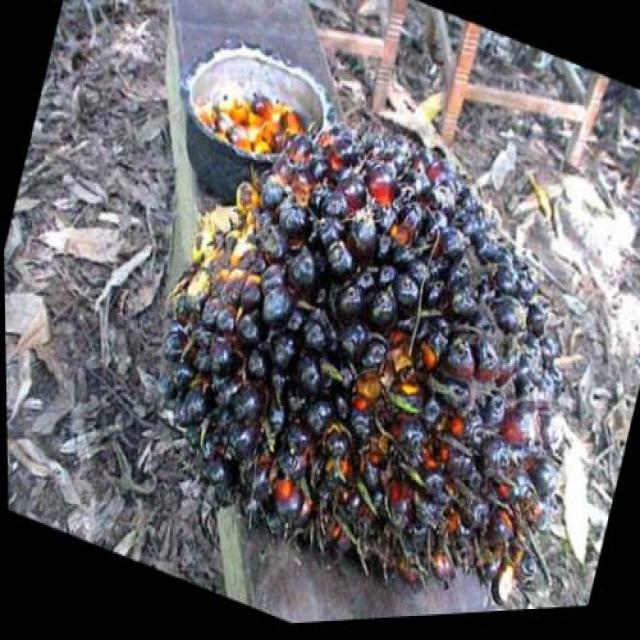Unripe: (119, 47, 622, 634)
